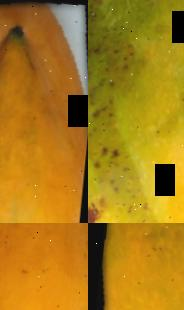PartiallyRipe: (88, 0, 184, 223), (88, 223, 184, 310)
Ripe: (0, 0, 88, 223), (0, 223, 88, 310)
